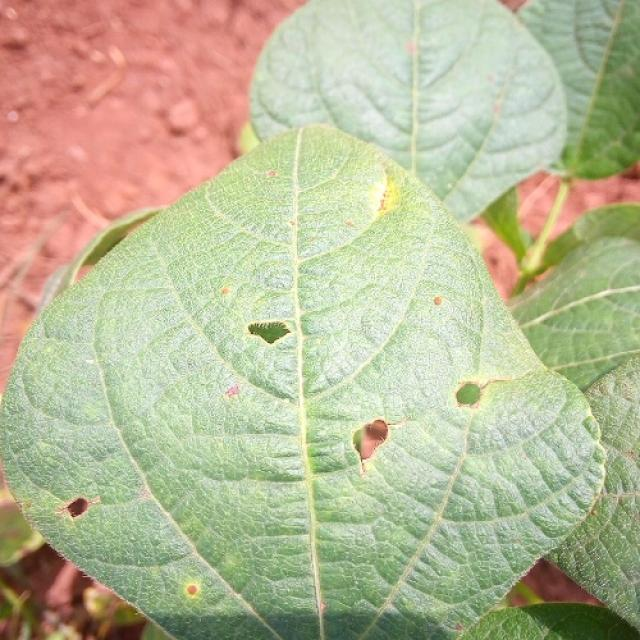mozaik: (27, 448, 159, 549), (224, 287, 342, 391), (322, 399, 422, 482), (442, 360, 512, 429)
